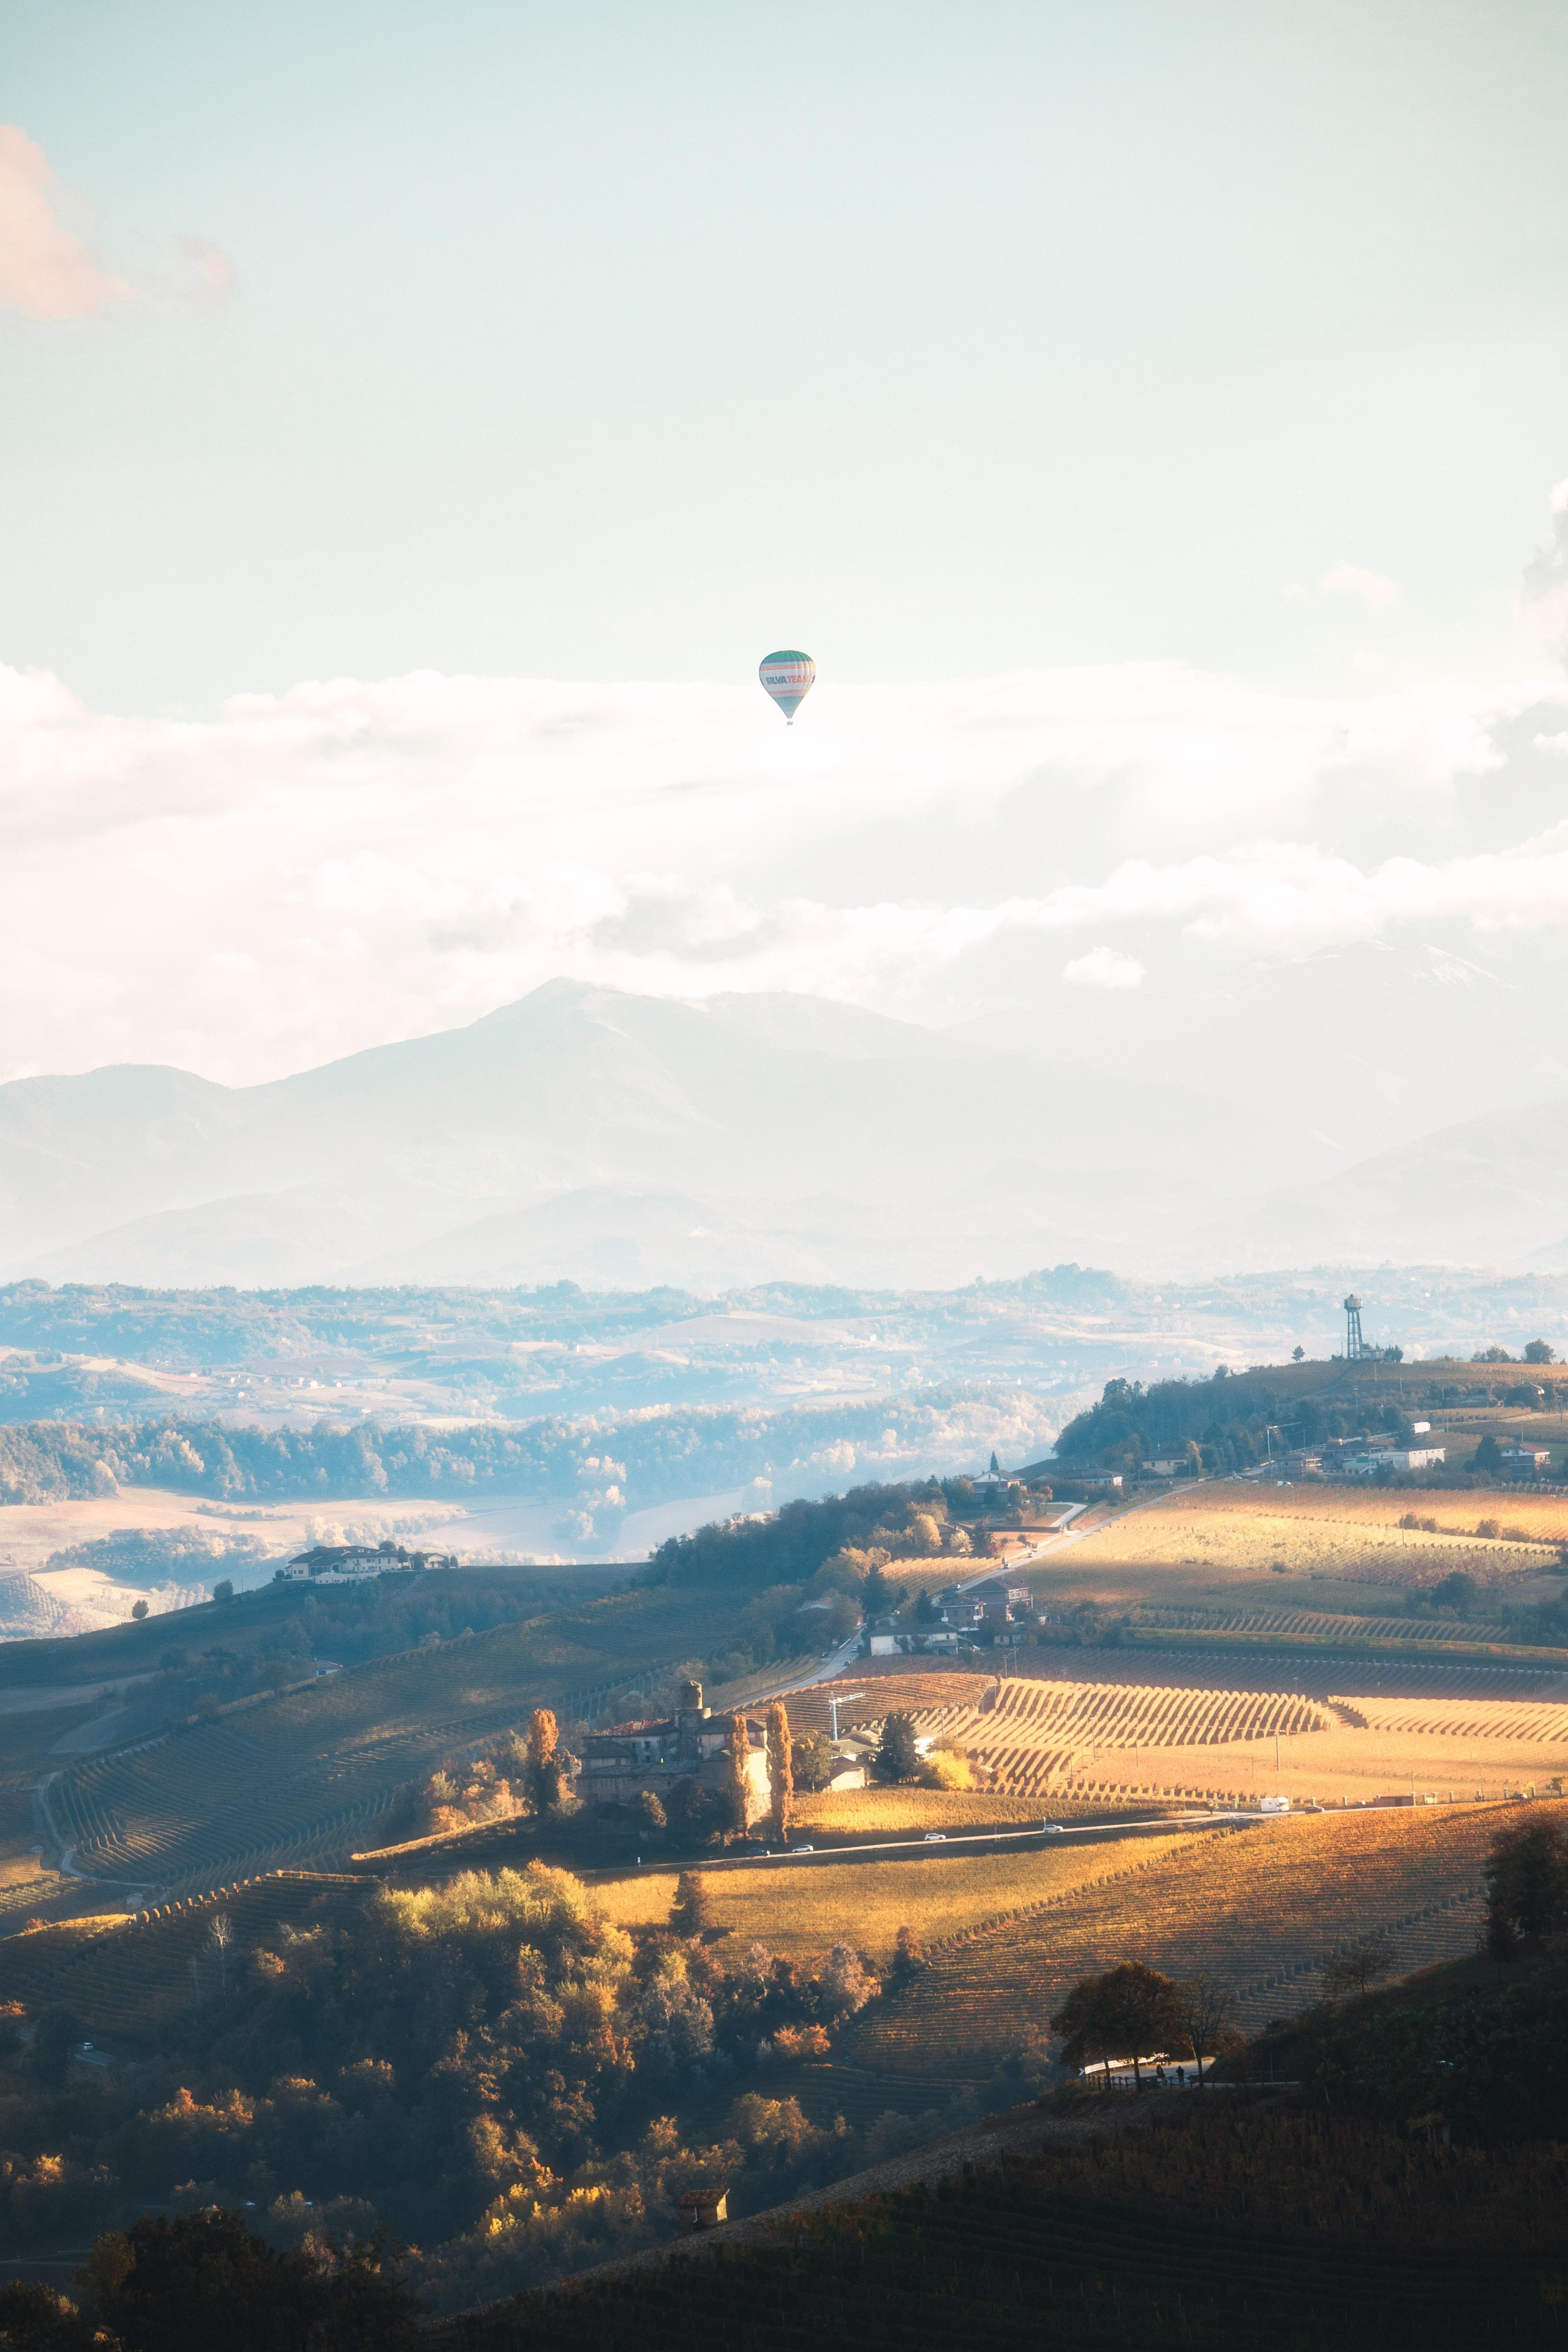hot air ballon: (740, 637, 833, 724)
